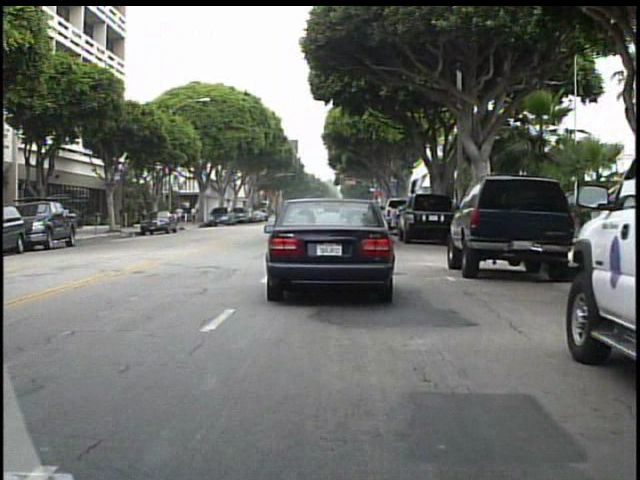person: (188, 202, 200, 228), (178, 203, 187, 226)
